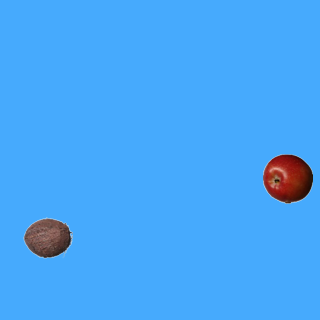Apple Braeburn: (262, 153, 312, 203)
Cocos: (22, 212, 72, 262)
